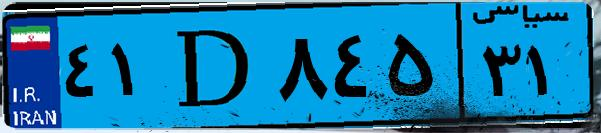1: (525, 38, 570, 115), (110, 28, 158, 98)
3: (475, 38, 525, 113)
4: (330, 28, 385, 110), (57, 26, 110, 100)
5: (385, 28, 445, 110)
8: (270, 28, 330, 110)
D: (158, 12, 270, 120)
